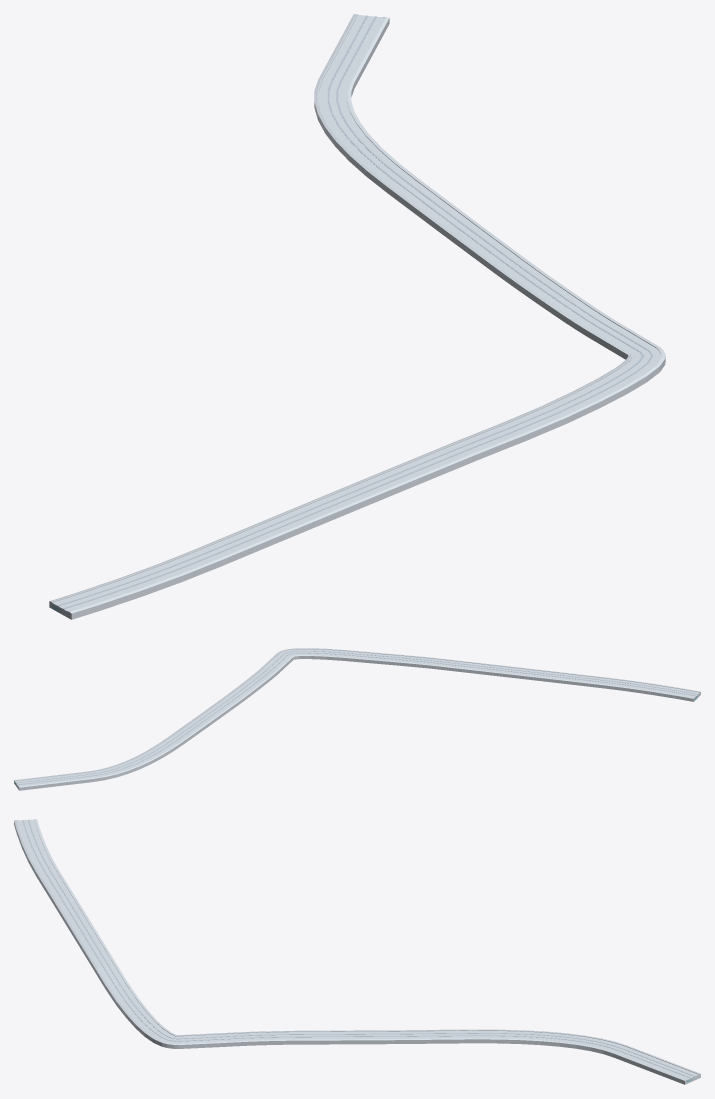
The model's file is Road_1_0_0.fbx.
3 views of the same model, one above another, from view 1: azimuth 30°, elevation 25°; view 2: azimuth 150°, elevation 25°; view 3: azimuth 270°, elevation 25° (orthographic). The views are drawn at different scales.
Parts seen in each view (by area): view 1: Road_1_0_0; view 2: Road_1_0_0; view 3: Road_1_0_0.
Boxes of the visible parts, x1,y1,x2,y2 form: Road_1_0_0: (49, 14, 665, 619); Road_1_0_0: (14, 648, 700, 790); Road_1_0_0: (14, 819, 700, 1084).
Bounding box in the file's own units: 27631 × 401 × 30445.
